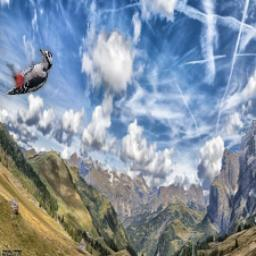Woodpecker: (7, 49, 53, 96)
